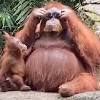monkey: (12, 0, 94, 96), (1, 24, 44, 93)
